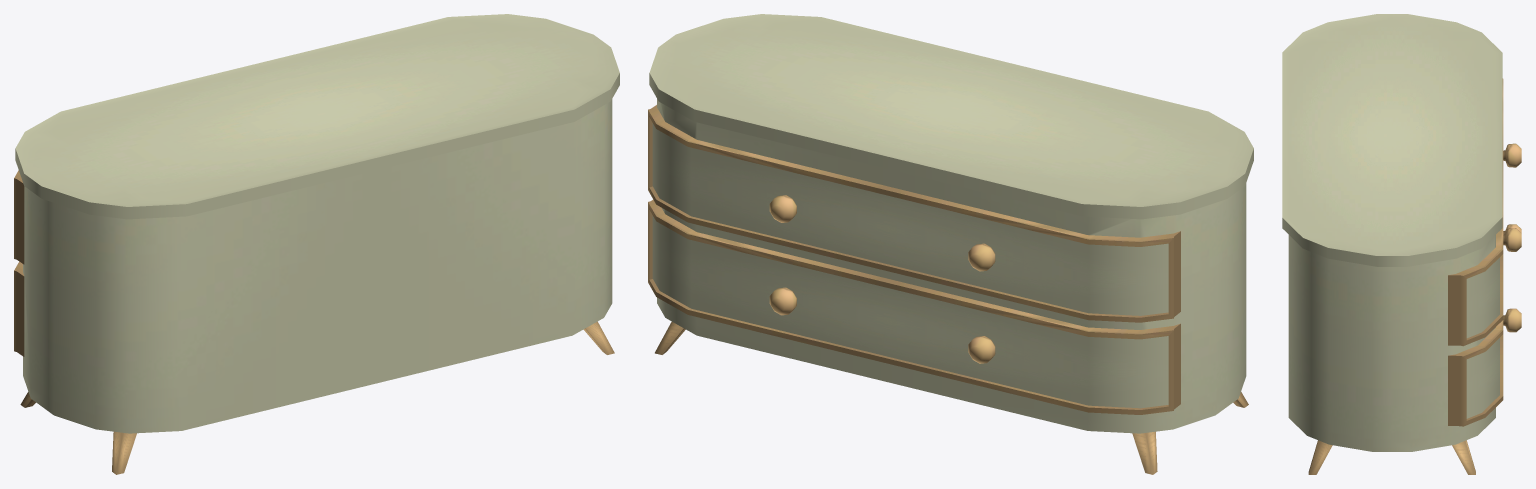
The model's file is Anim.fbx.
3 views of the same model, side by side, from view 1: azimuth 30°, elevation 25°; view 2: azimuth 150°, elevation 25°; view 3: azimuth 270°, elevation 25° (orthographic). The views are drawn at different scales.
Visible parts, largest first — view 1: Drawers, Draw; view 2: Drawers, Draw; view 3: Drawers, Draw.
Part boxes in pixels (x1=…): Drawers: x1=14, y1=14, x2=619, y2=474; Draw: x1=14, y1=170, x2=24, y2=264; Drawers: x1=648, y1=14, x2=1253, y2=474; Draw: x1=648, y1=105, x2=1180, y2=322; Drawers: x1=1282, y1=14, x2=1521, y2=474; Draw: x1=1448, y1=78, x2=1521, y2=346.
Size of the model in its own units: 3.63 by 1.63 by 1.52.
